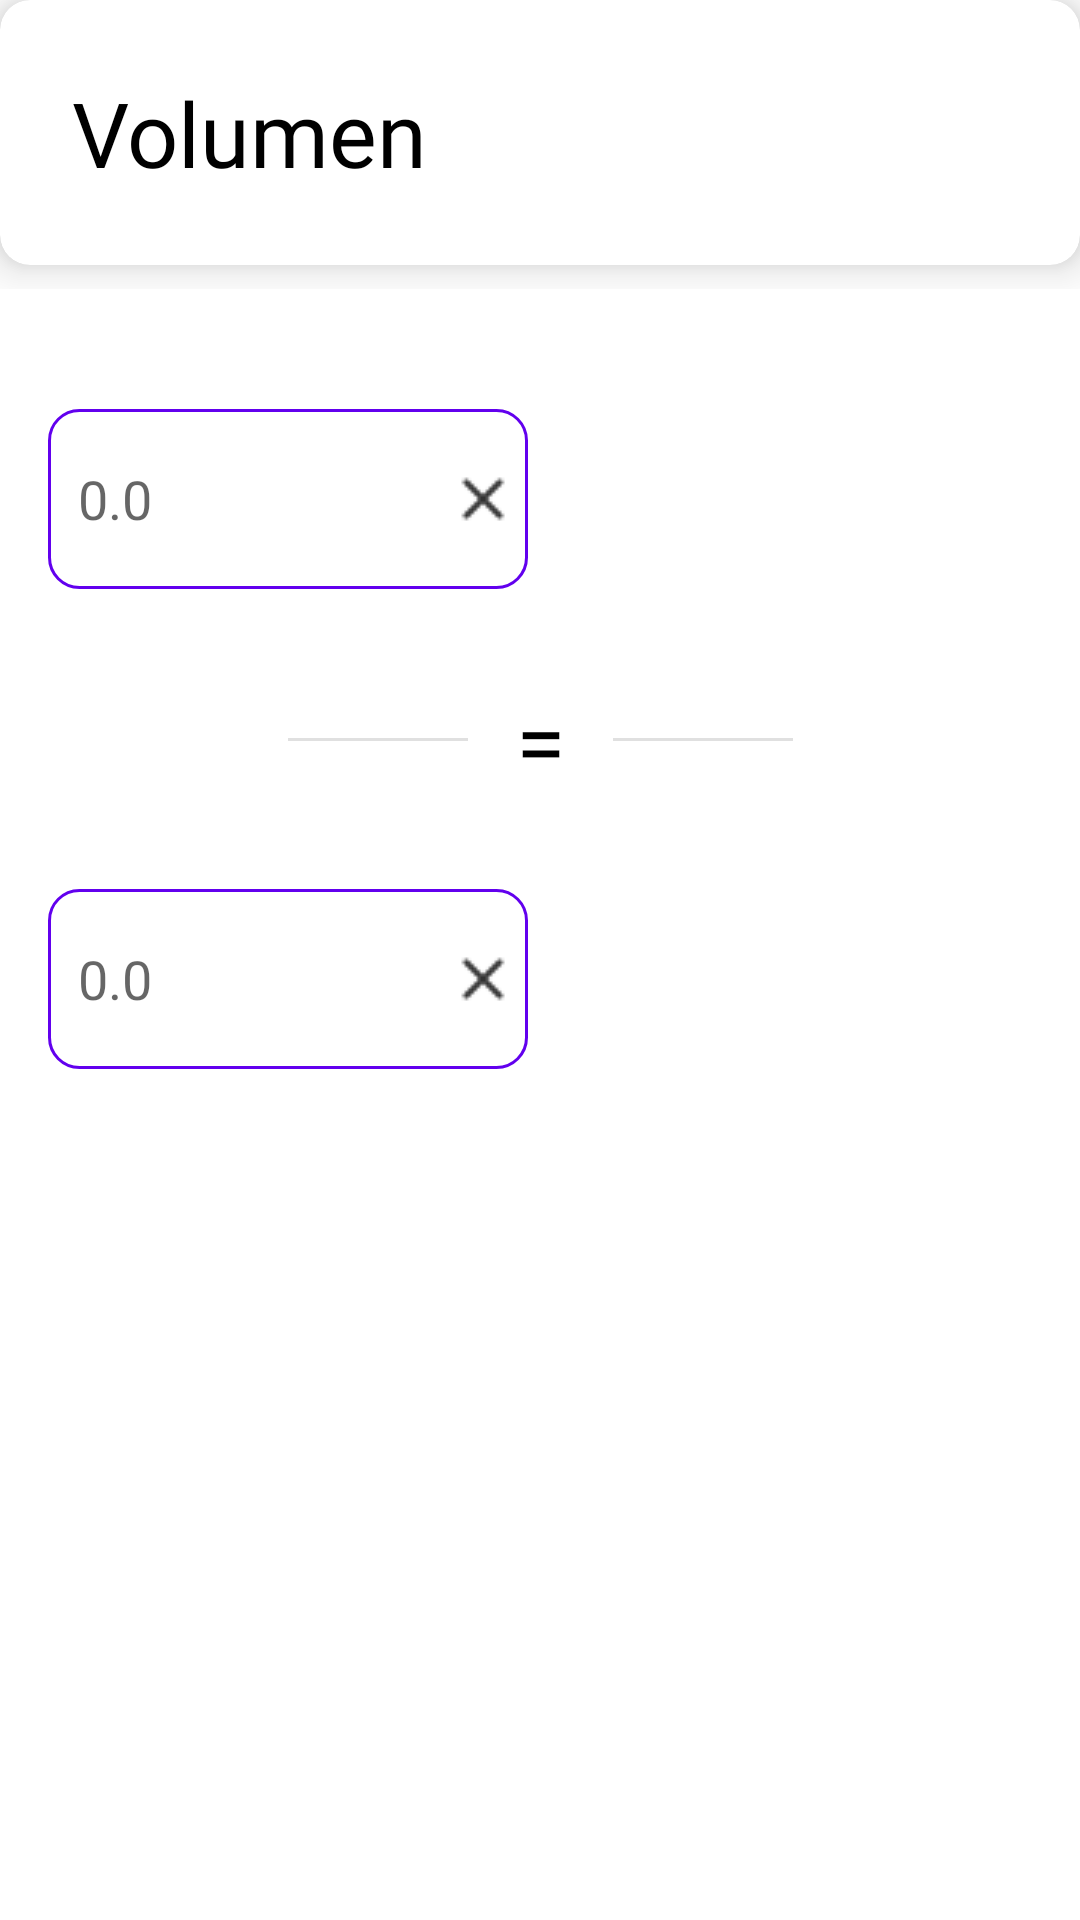

Named icons in this screenshot (1080×1920) and their bounding boxes, bbox(x1, y1, x2, y2):
del txt: bbox(461, 477, 505, 521), bbox(461, 957, 505, 1001)
